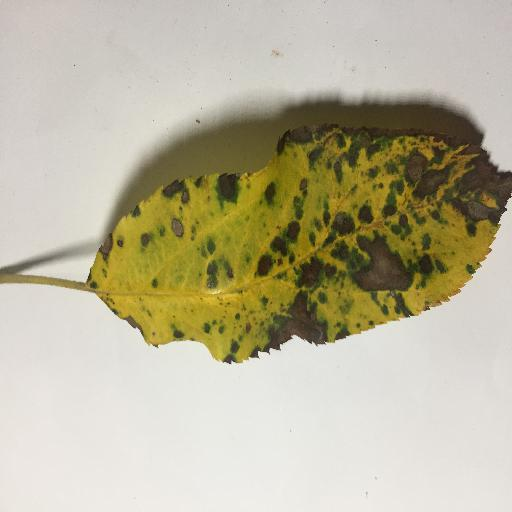Brown_Spot: (91, 88, 512, 403)
